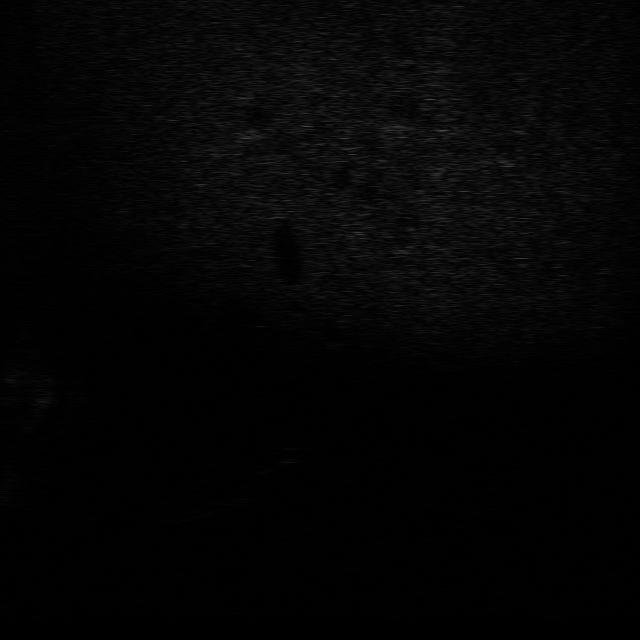ball: (265, 443, 310, 468)
square cage: (176, 490, 258, 516)
